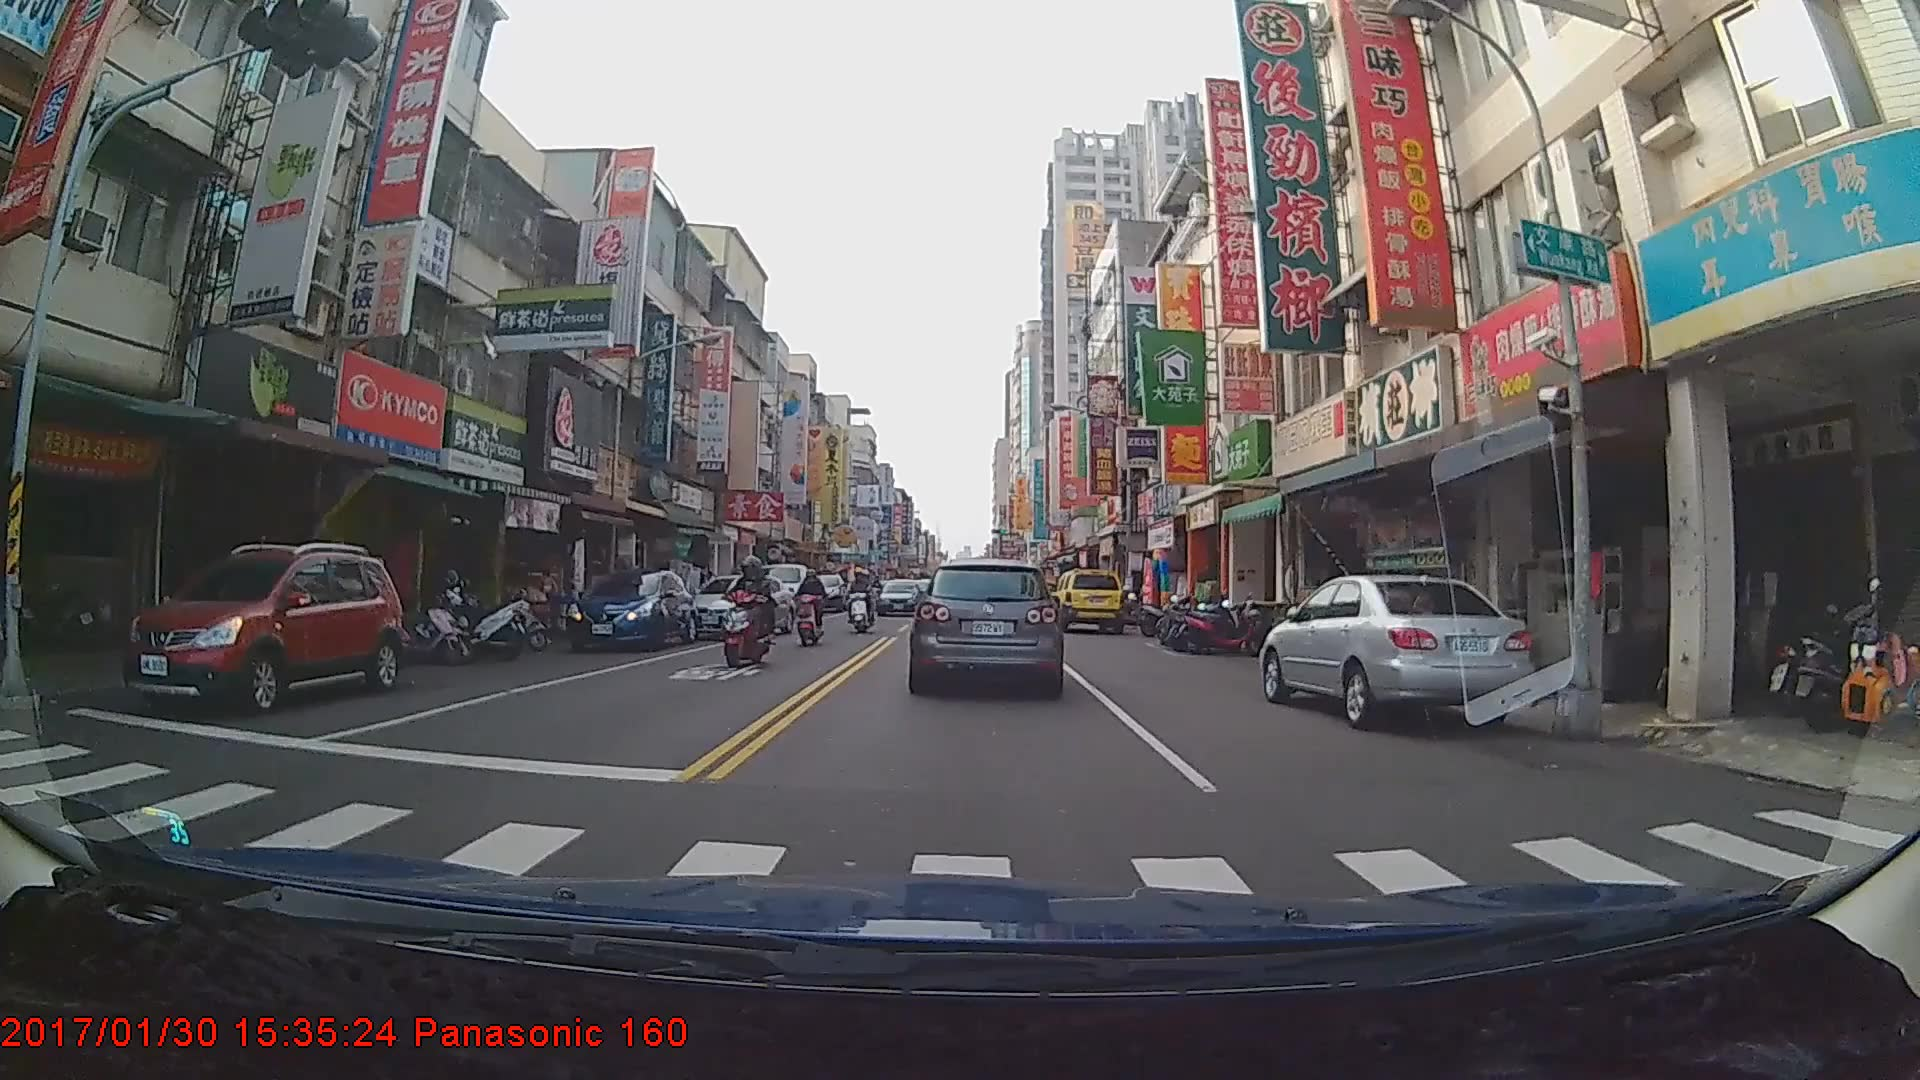rider: (719, 553, 779, 678), (791, 568, 827, 647), (845, 575, 876, 643)
vehicle: (118, 544, 399, 712), (1256, 571, 1535, 731), (909, 556, 1062, 694), (562, 569, 699, 651), (686, 574, 795, 638), (1052, 566, 1125, 632), (753, 563, 809, 618), (873, 578, 925, 616)
